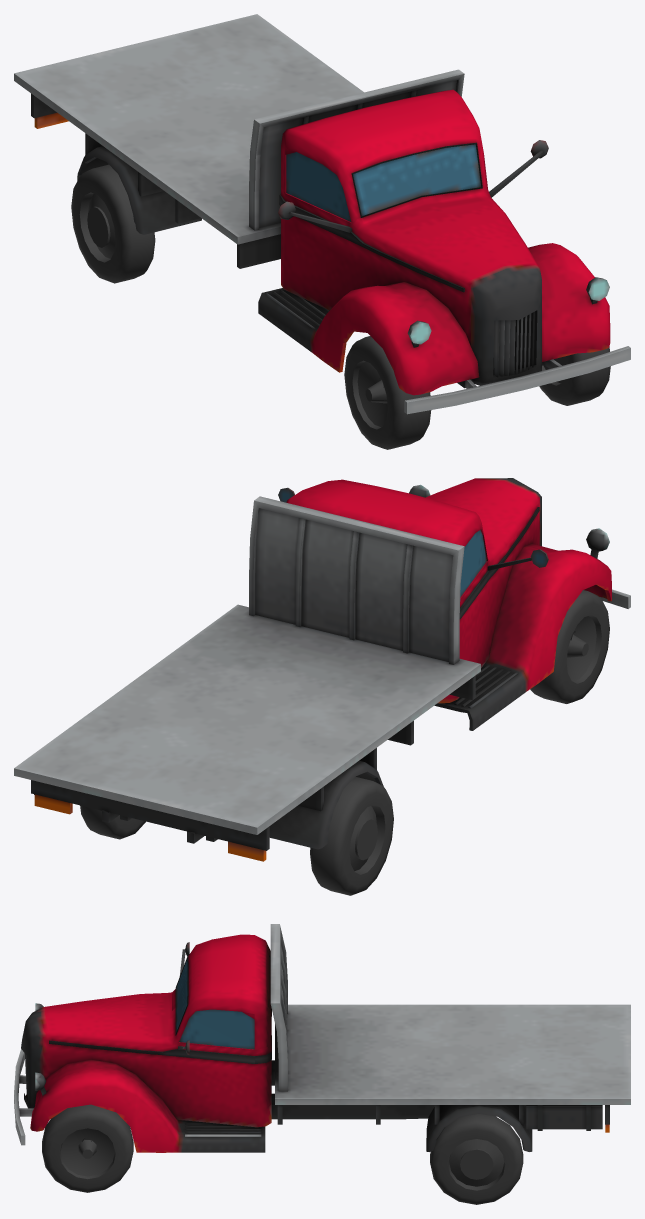
File: truck-v2.glb
The picture shows the model from 3 angles, top to bottom: view 1: azimuth 30°, elevation 25°; view 2: azimuth 150°, elevation 25°; view 3: azimuth 270°, elevation 25°; orthographic projection. The views are drawn at different scales.
Parts seen in each view (by area): view 1: truck, truck front tyre, truck back tyre, truck back tyre001; view 2: truck, truck front tyre, truck back tyre, truck front tyre001; view 3: truck, truck front tyre001, truck back tyre001.
Boxes of the visible parts, bbox=[...] form: truck: bbox=[14, 14, 630, 414]; truck front tyre: bbox=[71, 164, 155, 283]; truck back tyre: bbox=[344, 336, 431, 449]; truck back tyre001: bbox=[539, 346, 610, 405]; truck: bbox=[14, 478, 630, 861]; truck front tyre: bbox=[310, 776, 393, 895]; truck back tyre: bbox=[530, 590, 609, 703]; truck front tyre001: bbox=[80, 805, 145, 839]; truck: bbox=[14, 924, 630, 1152]; truck front tyre001: bbox=[430, 1114, 523, 1204]; truck back tyre001: bbox=[42, 1104, 133, 1192].
Bounding box in the file's own units: 2.51 × 2.18 × 6.25.
2 materials, 1 textured.
